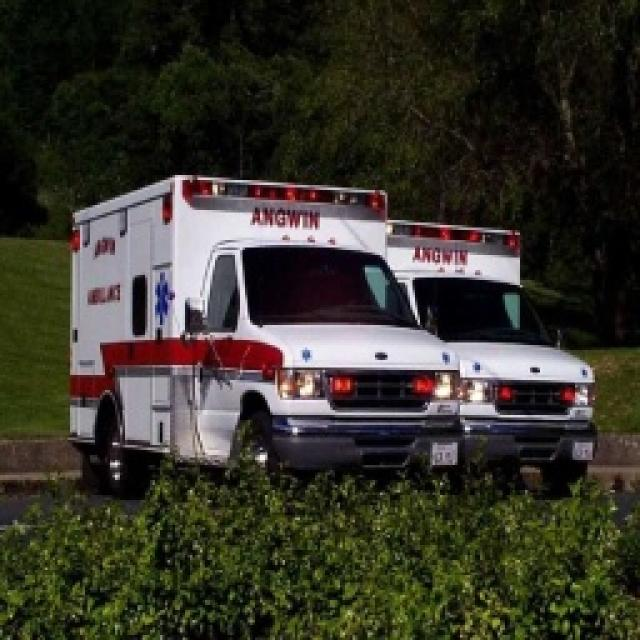emergency-vehicle: (39, 154, 443, 540), (302, 204, 640, 556)
